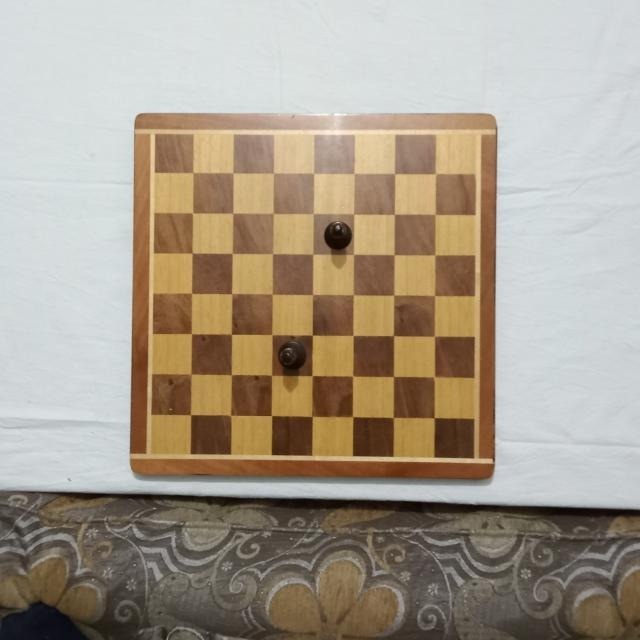black-bishop: (322, 220, 354, 252), (278, 338, 310, 370)
